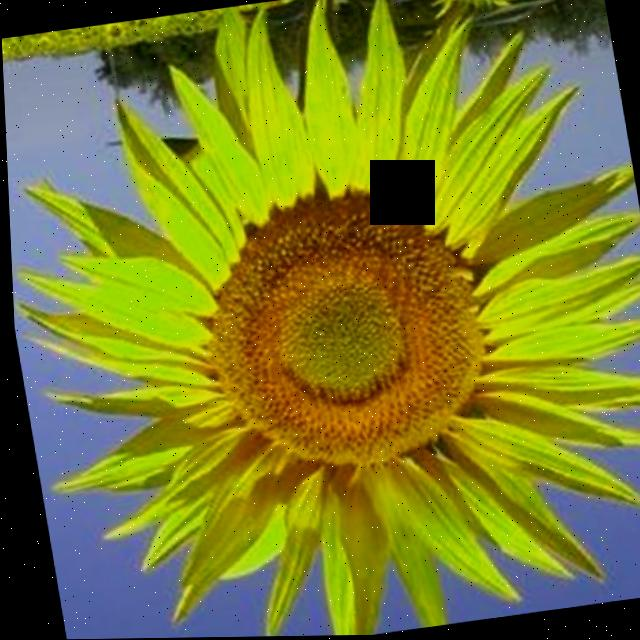sunflower: (3, 0, 640, 640)
